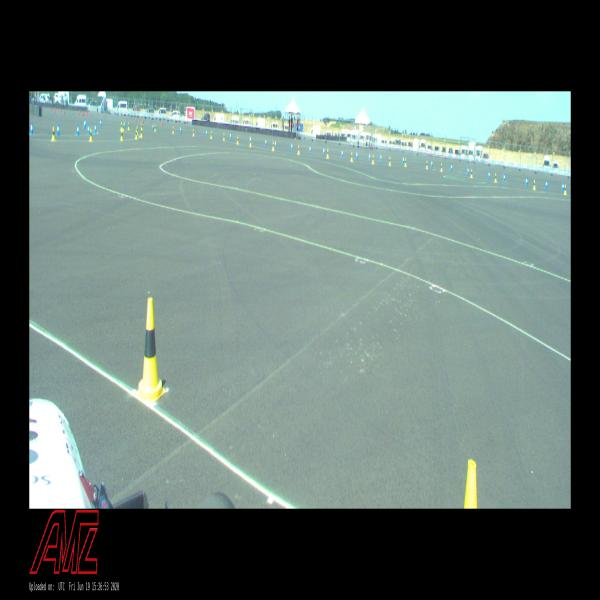yellow_cone: (136, 297, 166, 403)
